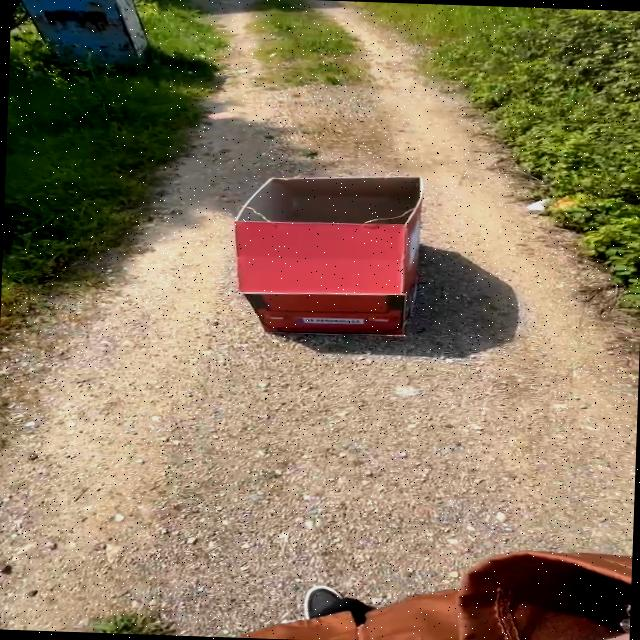red_car: (186, 156, 470, 354)
